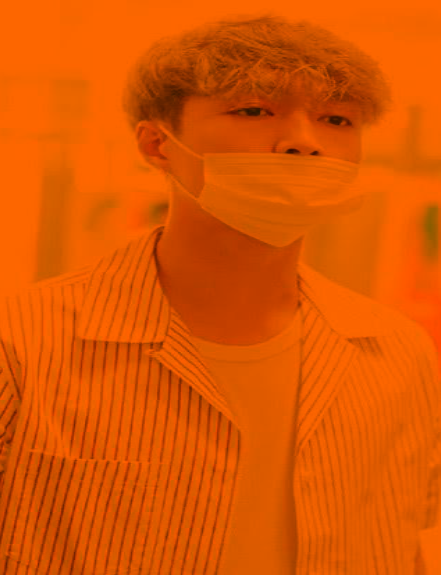mask_weared_incorrect: (176, 97, 369, 251)
